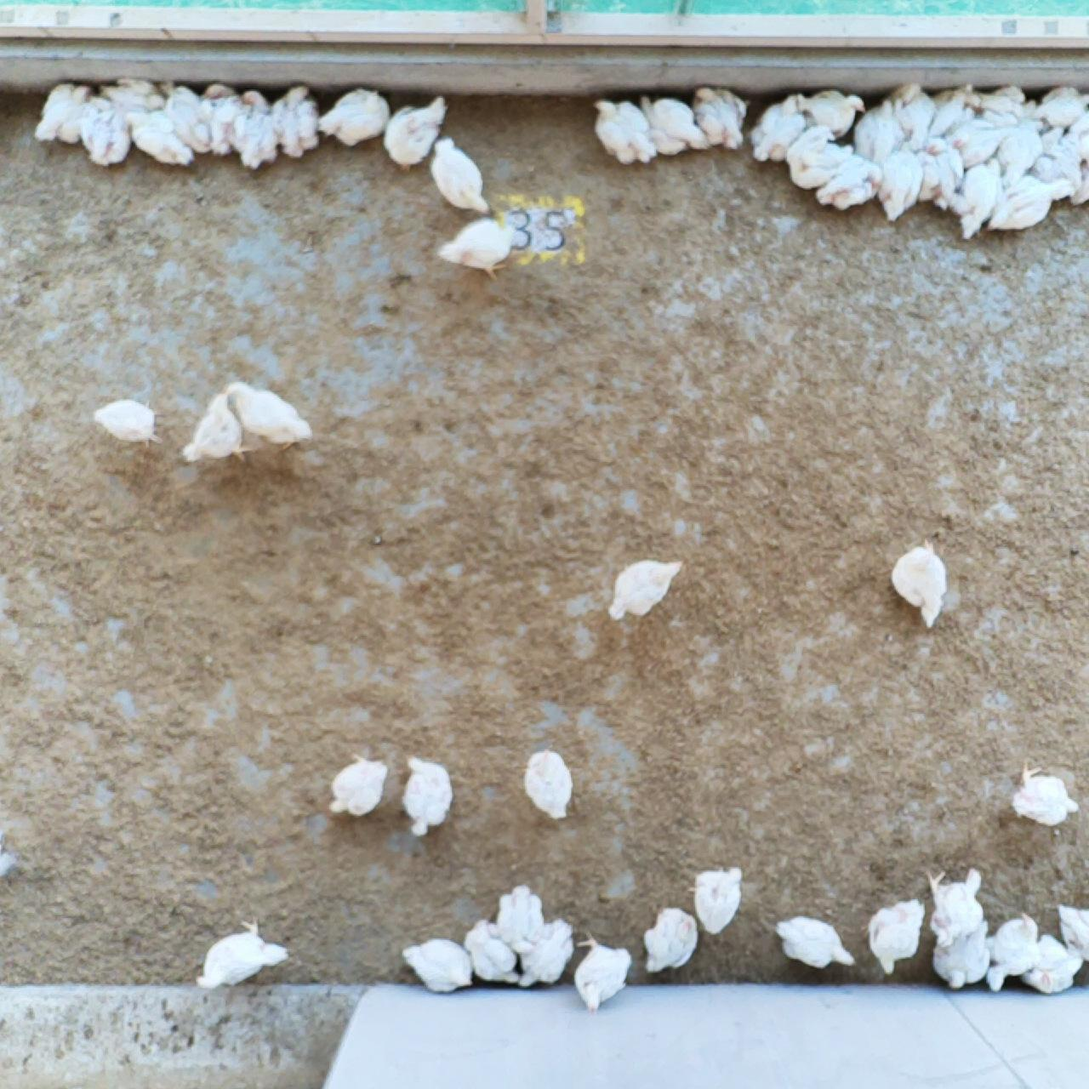chicken: (193, 917, 292, 992), (223, 380, 315, 450), (891, 536, 952, 629), (605, 555, 688, 623), (437, 214, 519, 281), (785, 120, 859, 193), (572, 932, 635, 1016), (428, 137, 493, 217), (385, 95, 452, 172), (226, 86, 286, 171), (182, 389, 251, 462), (928, 864, 985, 950), (1008, 761, 1080, 829), (990, 176, 1071, 236), (983, 911, 1042, 993), (400, 754, 457, 838), (591, 96, 658, 167), (638, 92, 710, 158), (775, 912, 858, 968), (868, 899, 926, 977), (318, 86, 390, 148), (950, 157, 1003, 241), (516, 916, 576, 990), (794, 83, 866, 144), (931, 921, 993, 991), (401, 937, 476, 994), (122, 108, 195, 166), (462, 917, 522, 987), (327, 753, 389, 819), (852, 96, 906, 171), (77, 94, 133, 166), (1024, 122, 1084, 189), (749, 93, 807, 162), (883, 82, 937, 156), (268, 83, 321, 158), (950, 109, 1012, 172), (642, 907, 700, 974), (1021, 933, 1085, 993), (690, 84, 748, 150), (522, 747, 573, 821), (35, 81, 93, 146), (161, 83, 214, 154), (817, 154, 880, 213), (995, 117, 1045, 191), (692, 866, 744, 937), (876, 141, 919, 225), (495, 883, 546, 952), (90, 399, 163, 447), (198, 81, 244, 157), (961, 78, 1039, 121), (922, 81, 976, 142), (922, 135, 963, 213), (1032, 81, 1089, 128), (100, 78, 166, 113), (1055, 900, 1089, 961), (908, 145, 943, 203), (1058, 110, 1089, 161)
